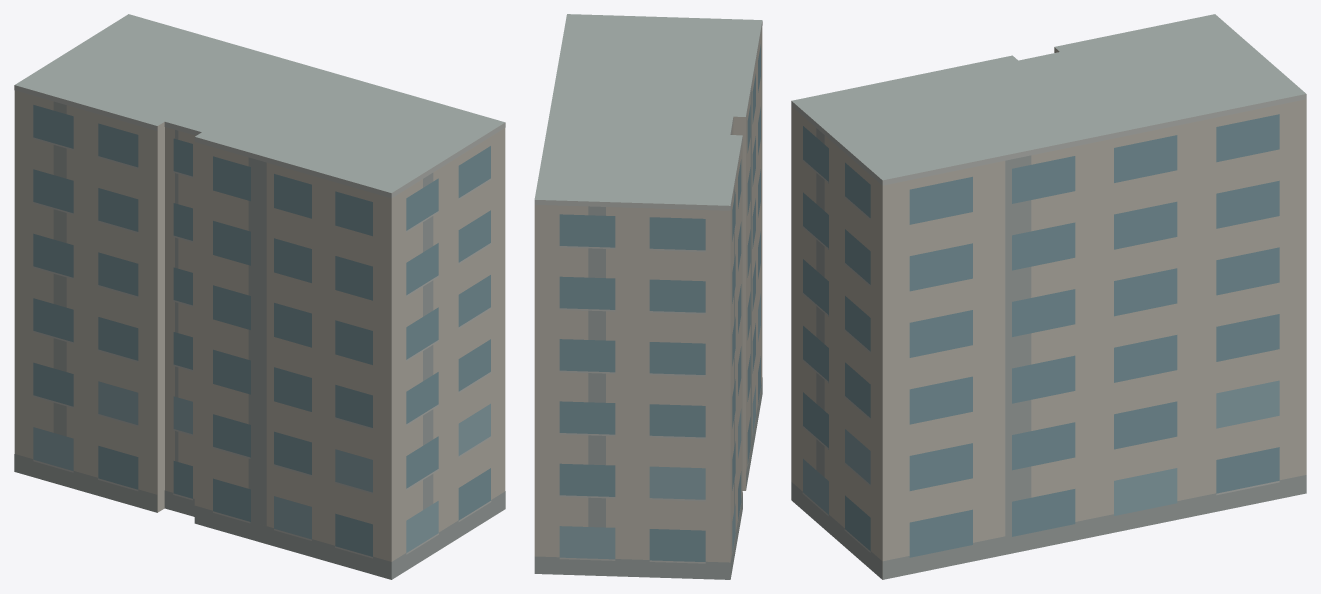
Rendered from survey-upis-32940692.glb.
3 renders of one model, left to right at view 1: azimuth 30°, elevation 25°; view 2: azimuth 150°, elevation 25°; view 3: azimuth 270°, elevation 25°, orthographic. The views are drawn at different scales.
Parts seen in each view (by area): view 1: survey-upis-32940692.tmp; view 2: survey-upis-32940692.tmp; view 3: survey-upis-32940692.tmp.
Part boxes in pixels (x1=…): survey-upis-32940692.tmp: x1=14, y1=14, x2=505, y2=579; survey-upis-32940692.tmp: x1=534, y1=14, x2=762, y2=579; survey-upis-32940692.tmp: x1=791, y1=14, x2=1306, y2=579.
Size of the model in its own units: 16.35 by 18.3 by 21.39.
